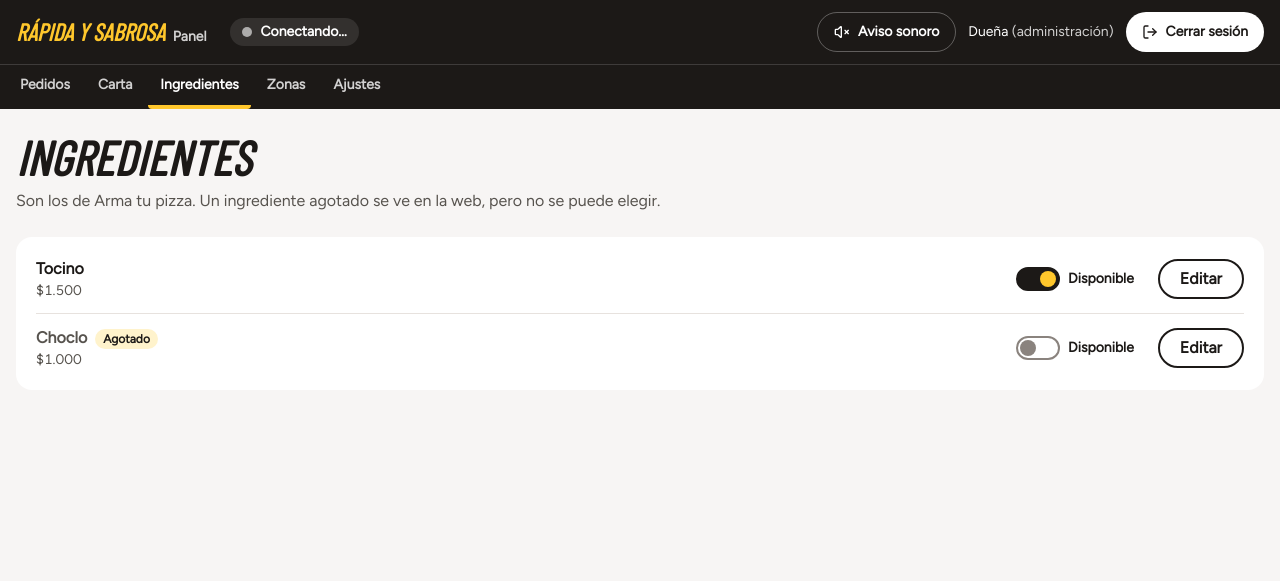
it: /ingredientes › administración cambia el nombre y el precio con guardado explícito
Expected: the heading "Ingredientes" is shown, [16,128,251,186]
Step 1. Click the button named "Editar Tocino" → click(1201, 279), box [1158,259,1244,299]
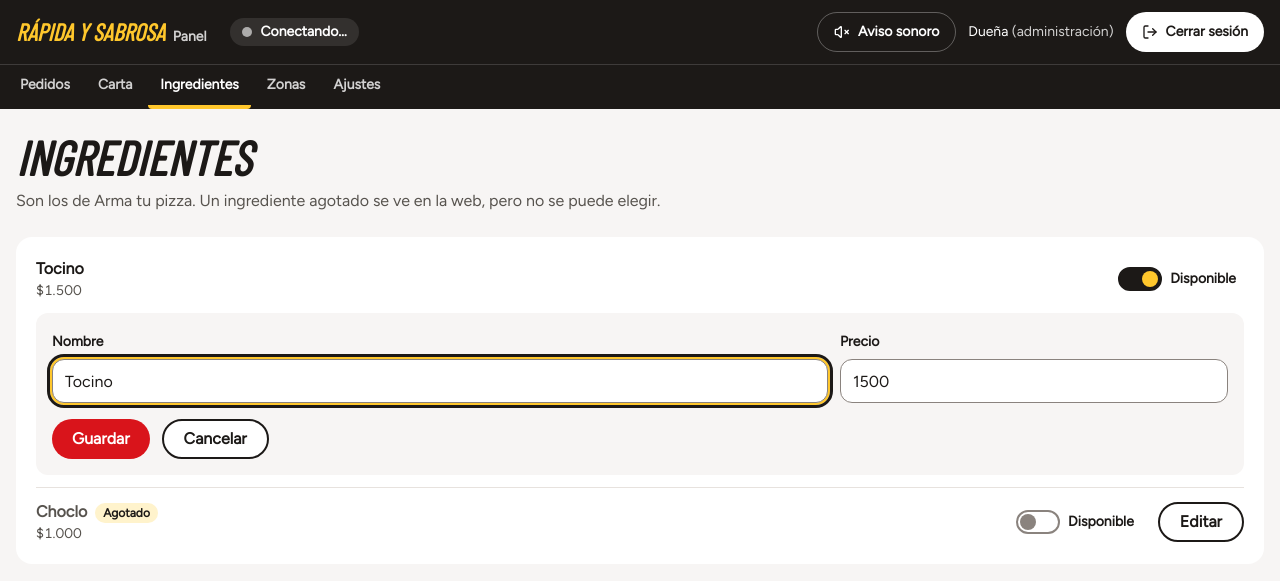
Step 2. Replace the text in the field labelled "Nombre" with "Tocino ahumado" → (440, 381), box [52,359,828,403]
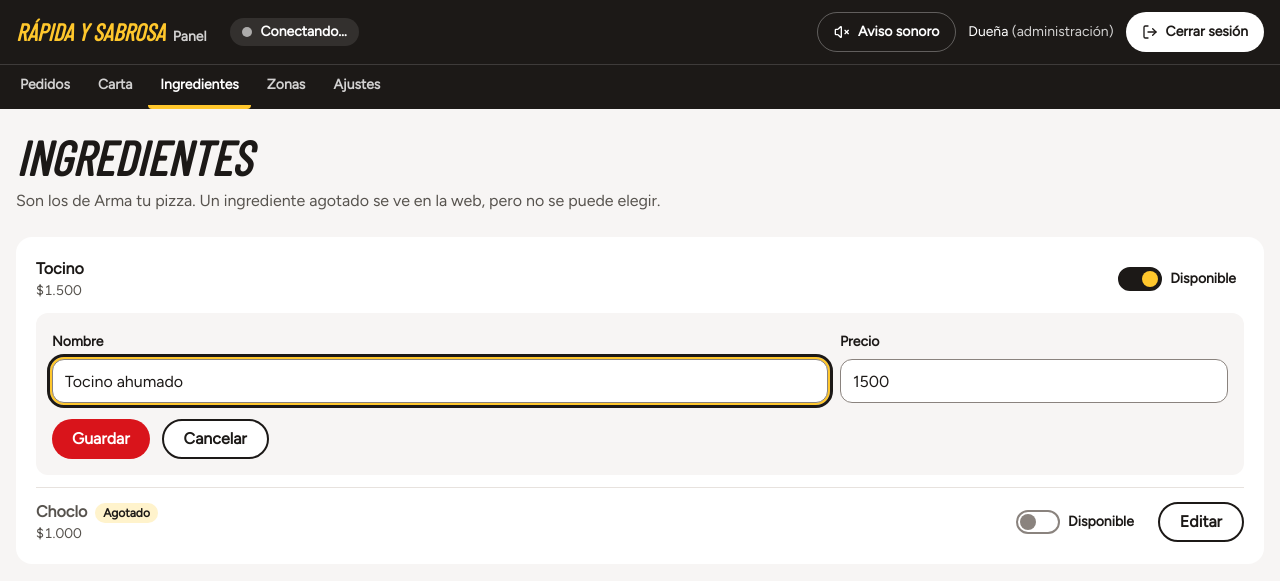
Step 3. Replace the text in the field labelled "Precio" with "$1.800" → (1034, 381), box [840,359,1228,403]
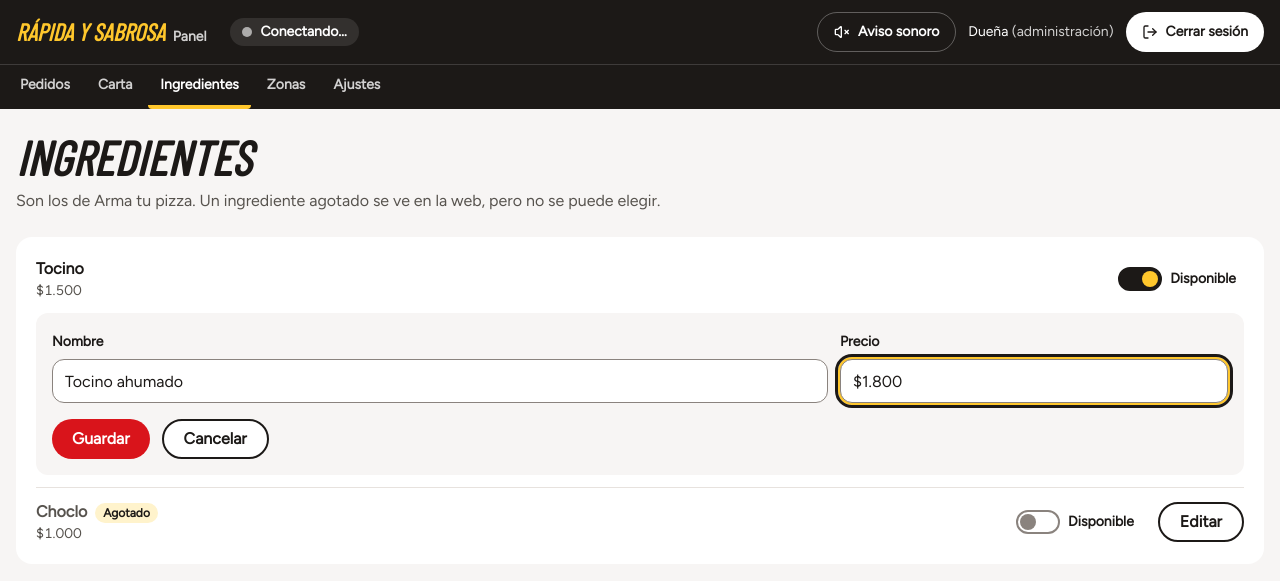
Step 4. Click the button "Guardar" → click(101, 439), box [52,419,150,459]
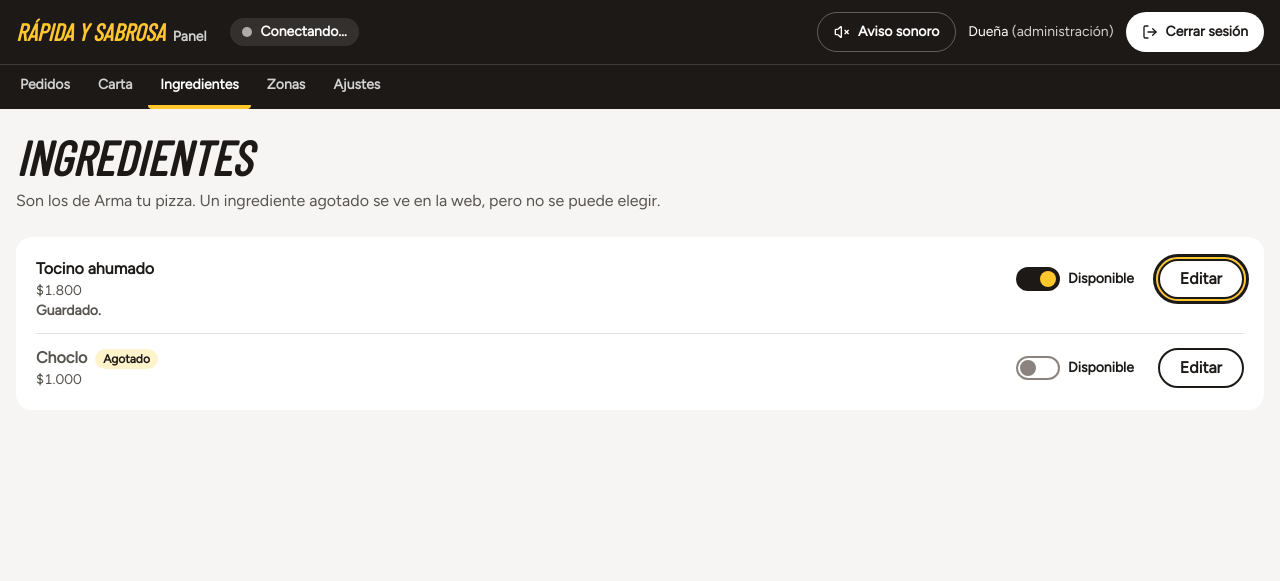
Expected: the text "$1.800" is shown, [36,282,82,299]
